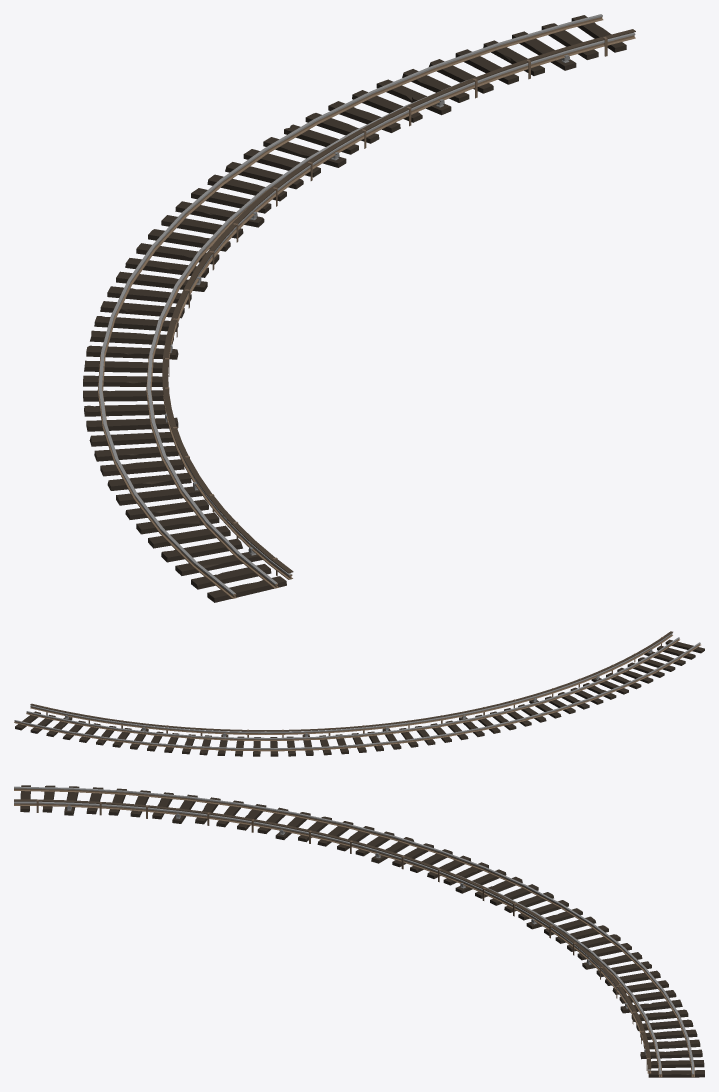
The model's file is SW_ENV_TrackBend_Outer_90_25m.fbx.
The picture shows the model from 3 angles, top to bottom: view 1: azimuth 30°, elevation 25°; view 2: azimuth 150°, elevation 25°; view 3: azimuth 270°, elevation 25°; orthographic projection. The views are drawn at different scales.
Visible parts, largest first — view 1: SW_ENV_TrackBend_Outer_90_25m; view 2: SW_ENV_TrackBend_Outer_90_25m; view 3: SW_ENV_TrackBend_Outer_90_25m.
Boxes of the visible parts, x1,y1,x2,y2 form: SW_ENV_TrackBend_Outer_90_25m: (83,14,635,602); SW_ENV_TrackBend_Outer_90_25m: (14,631,704,756); SW_ENV_TrackBend_Outer_90_25m: (14,785,704,1077).
Size of the model in its own units: 3075 by 58.74 by 3075.
